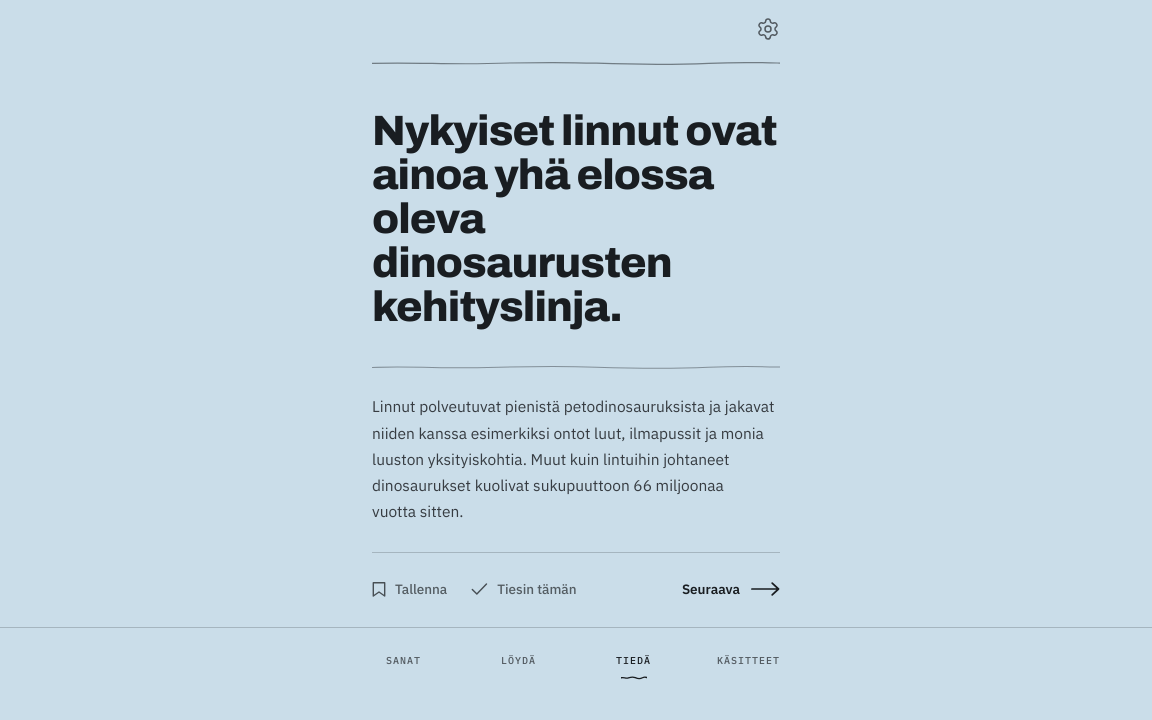
TAJU app › näyttää faktan lähteineen ja käsittelee Tiedä-toiminnot
The image size is (1152, 720).
What coordinates should you click on to do the following:
click the button "Tallenna"
I would click on:
 (410, 589)
Its box is [372, 566, 447, 612].
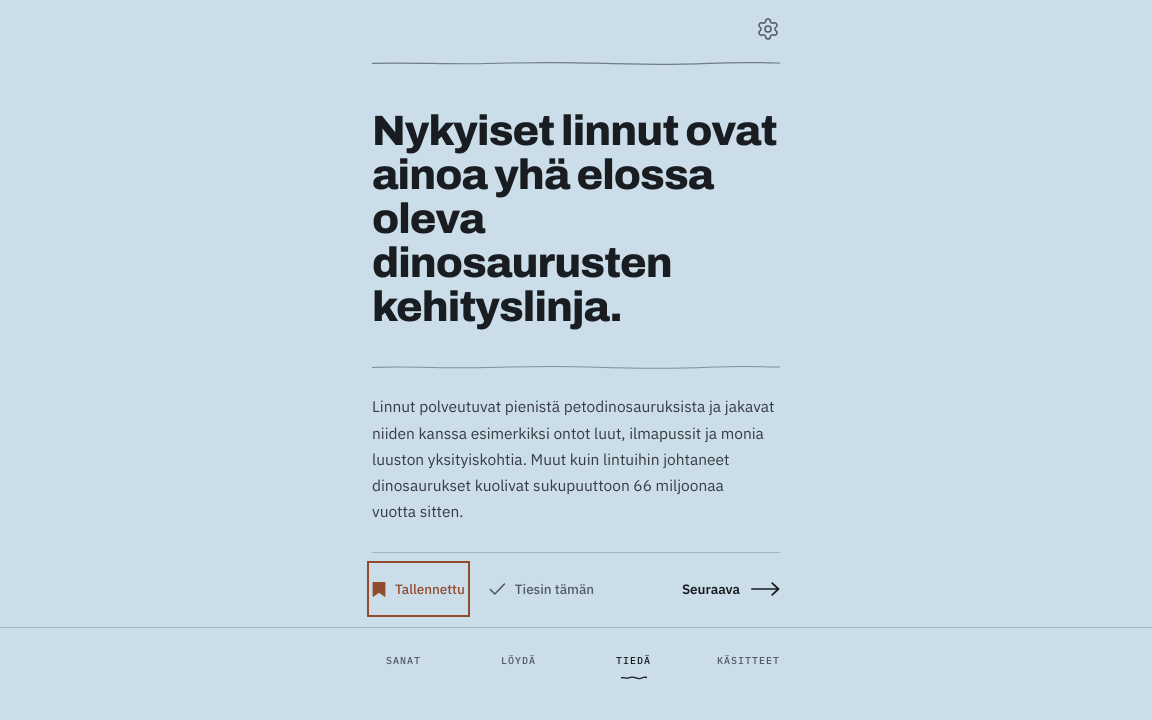
expect the button "Tallennettu" is pressed: met, box [372, 566, 465, 612]
What coordinates should you click on to do the following:
click the button "Tiesin tämän"
I would click on:
 (541, 589)
Its box is [489, 566, 594, 612].
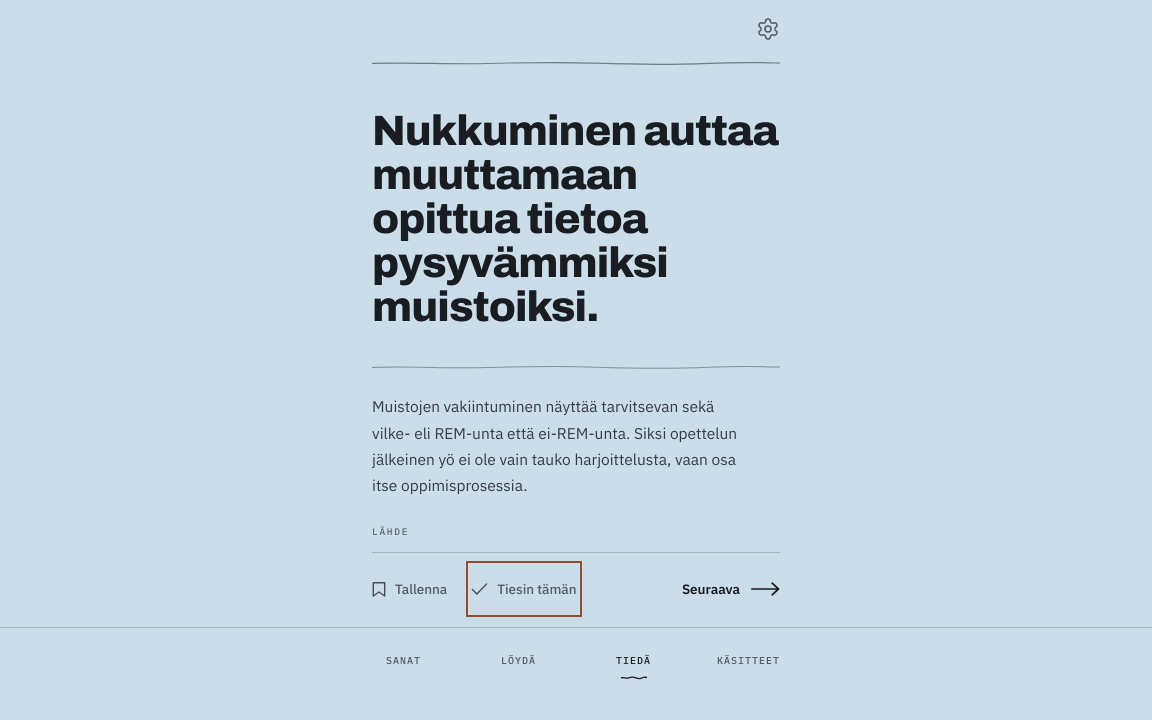
expect the heading "Nykyiset linnut ovat ainoa yhä elossa oleva dinosaurusten kehityslinja." no longer shows "Nykyiset linnut ovat ainoa yhä elossa oleva dinosaurusten kehityslinja.": met
